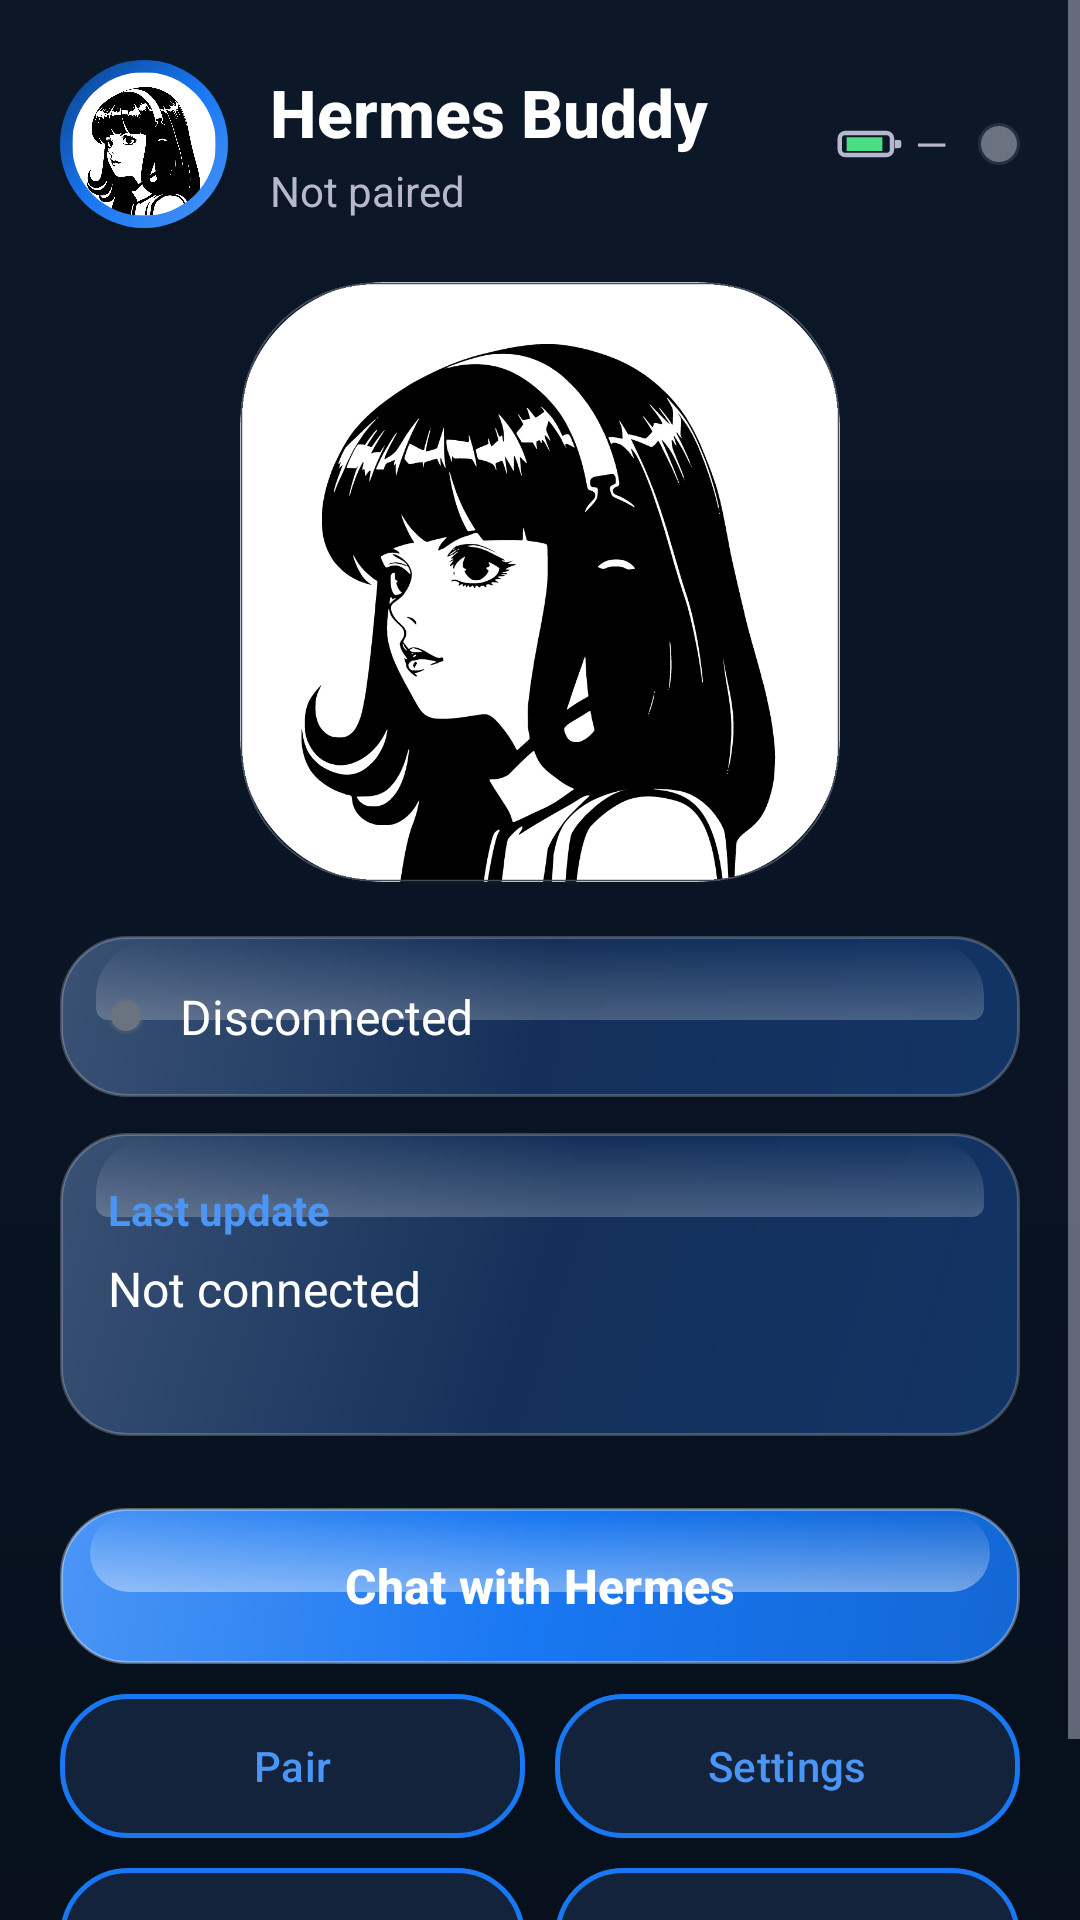

Icons on this 1080*1920 Android screen, each with the point to tap as (x,y):
Battery: (869,144)
status dot offline: (999,142), (126,1016)
